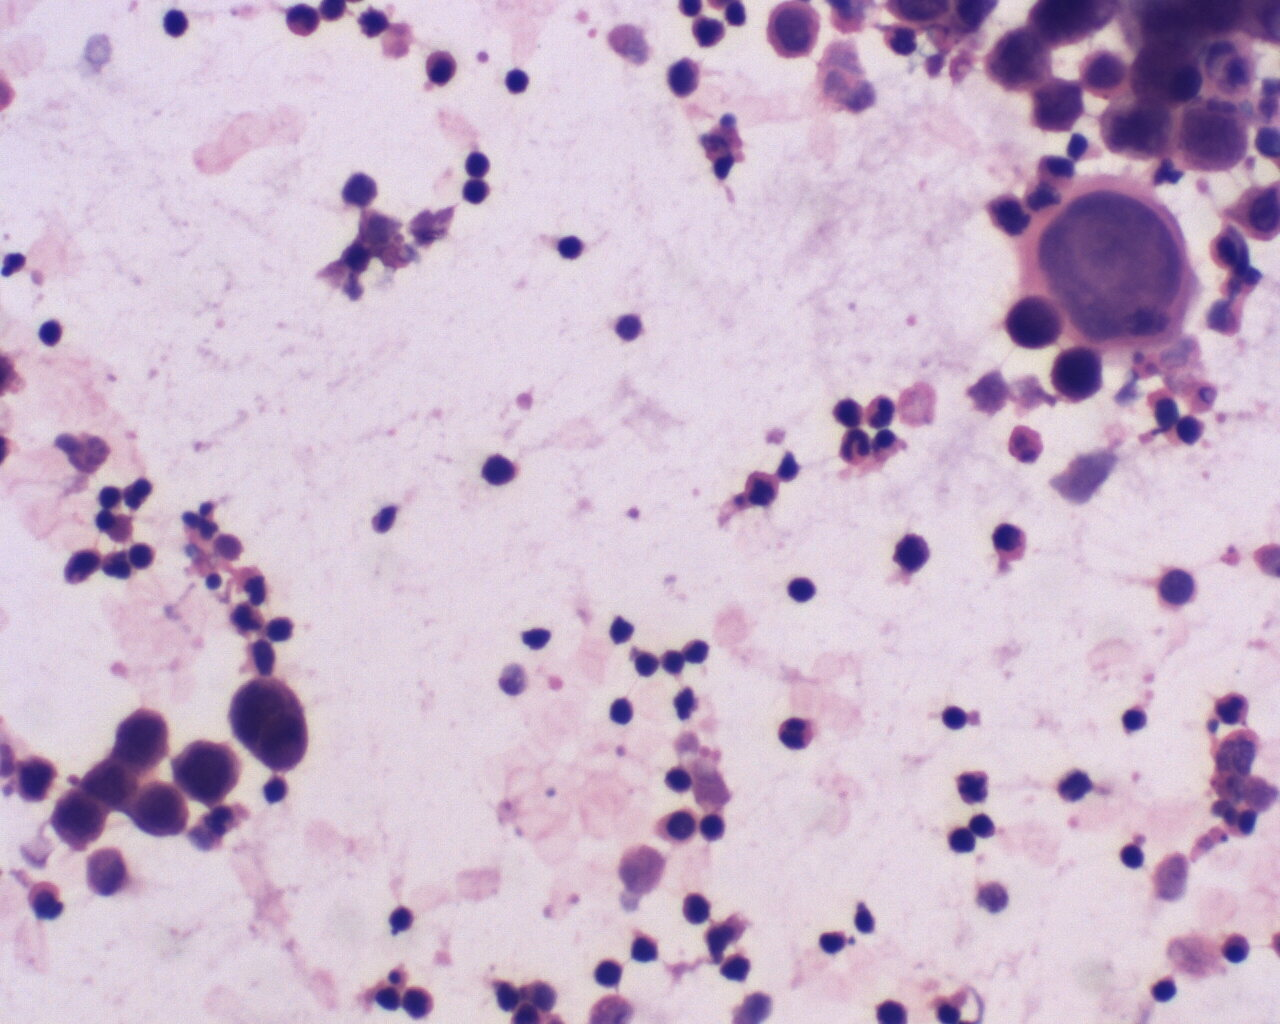ab: (1026, 174, 1204, 353), (229, 674, 313, 776), (1178, 98, 1251, 174), (1096, 94, 1174, 163), (176, 735, 245, 810), (985, 26, 1052, 93), (1003, 289, 1070, 355), (116, 698, 171, 776), (49, 793, 114, 857), (130, 778, 191, 843), (1046, 342, 1110, 403), (766, 1, 824, 59), (1033, 78, 1087, 133)
lymph: (891, 529, 939, 573), (476, 447, 521, 492), (156, 4, 197, 48), (587, 954, 630, 993), (1143, 970, 1184, 1009), (385, 898, 420, 942), (461, 140, 497, 180), (503, 60, 539, 98), (604, 691, 638, 730), (34, 313, 71, 350), (788, 567, 819, 607), (664, 763, 699, 797), (1117, 839, 1148, 871), (1119, 703, 1153, 734), (938, 701, 968, 734), (558, 231, 586, 263)
neutro: (774, 714, 819, 753), (835, 430, 872, 470)
